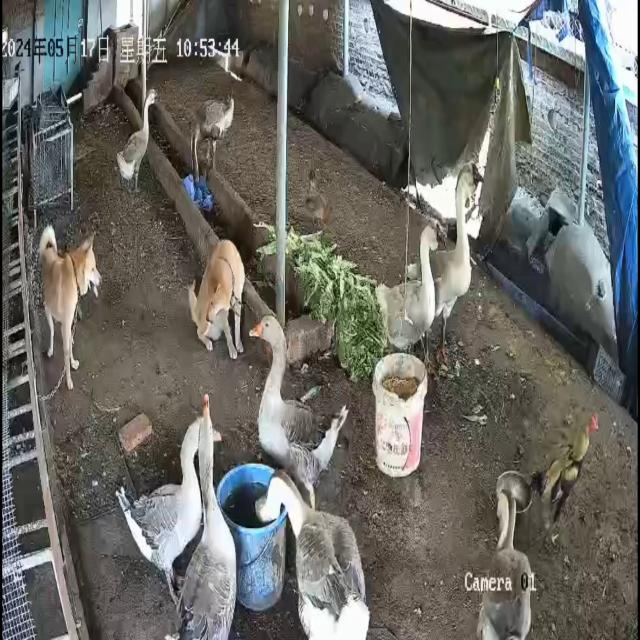dog: (39, 225, 103, 392), (188, 240, 246, 362)
